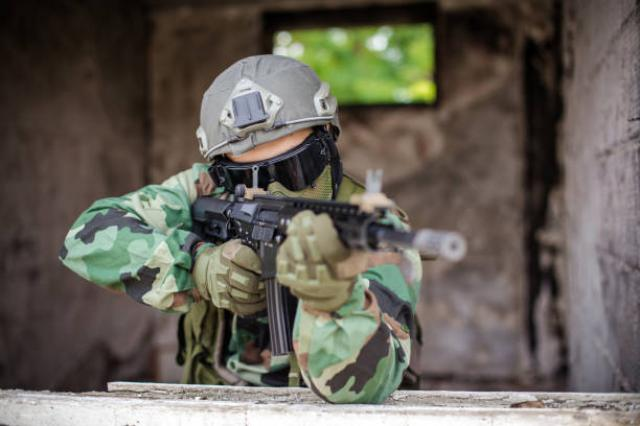other: (67, 54, 413, 392)
